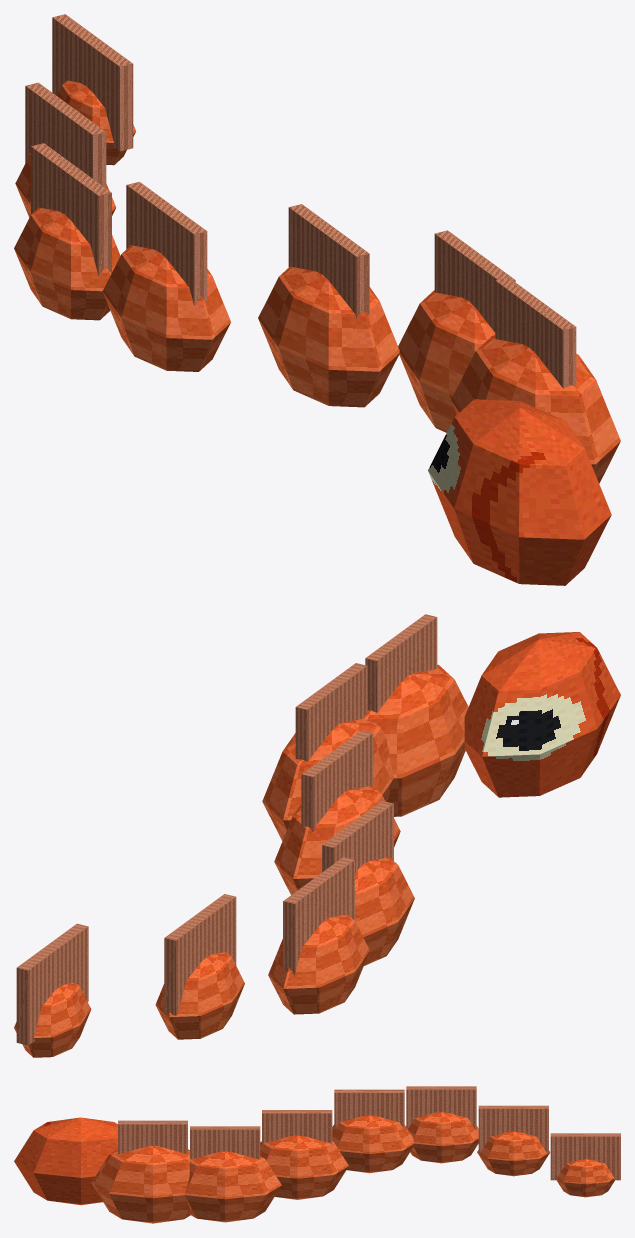
File: enguia_magma.glb
The picture shows the model from 3 angles, top to bottom: view 1: azimuth 30°, elevation 25°; view 2: azimuth 150°, elevation 25°; view 3: azimuth 270°, elevation 25°; orthographic projection. The views are drawn at different scales.
Visible parts, largest first — view 1: enguia_magma; view 2: enguia_magma; view 3: enguia_magma.
Boxes of the visible parts, left/top/right/bottom form: enguia_magma: left=14, top=14, right=620, bottom=585; enguia_magma: left=14, top=614, right=620, bottom=1057; enguia_magma: left=14, top=1086, right=620, bottom=1223.
Bounding box in the file's own units: 0.496 × 0.3279 × 1.73.
Materials: 1 (1 with a texture image).
